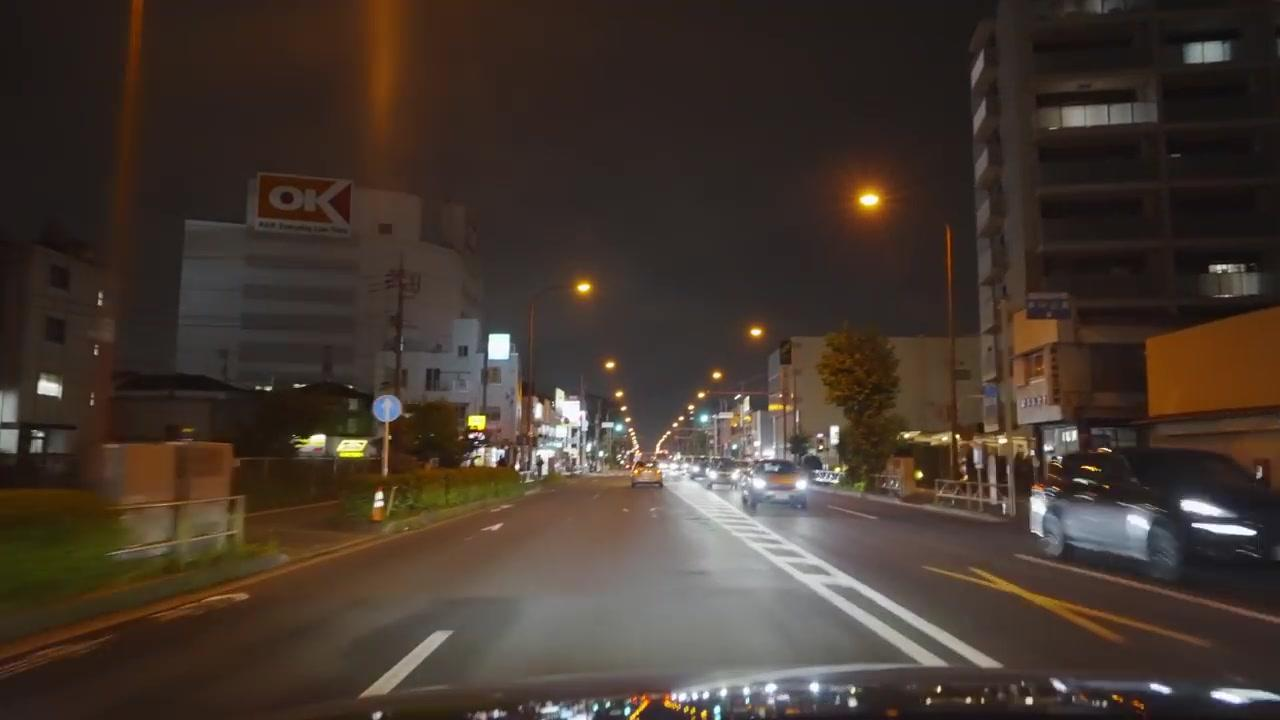car: (1029, 446, 1280, 580), (743, 459, 808, 513), (706, 463, 740, 490), (631, 463, 664, 488), (689, 467, 709, 481)
traffic light: (469, 414, 486, 432)
